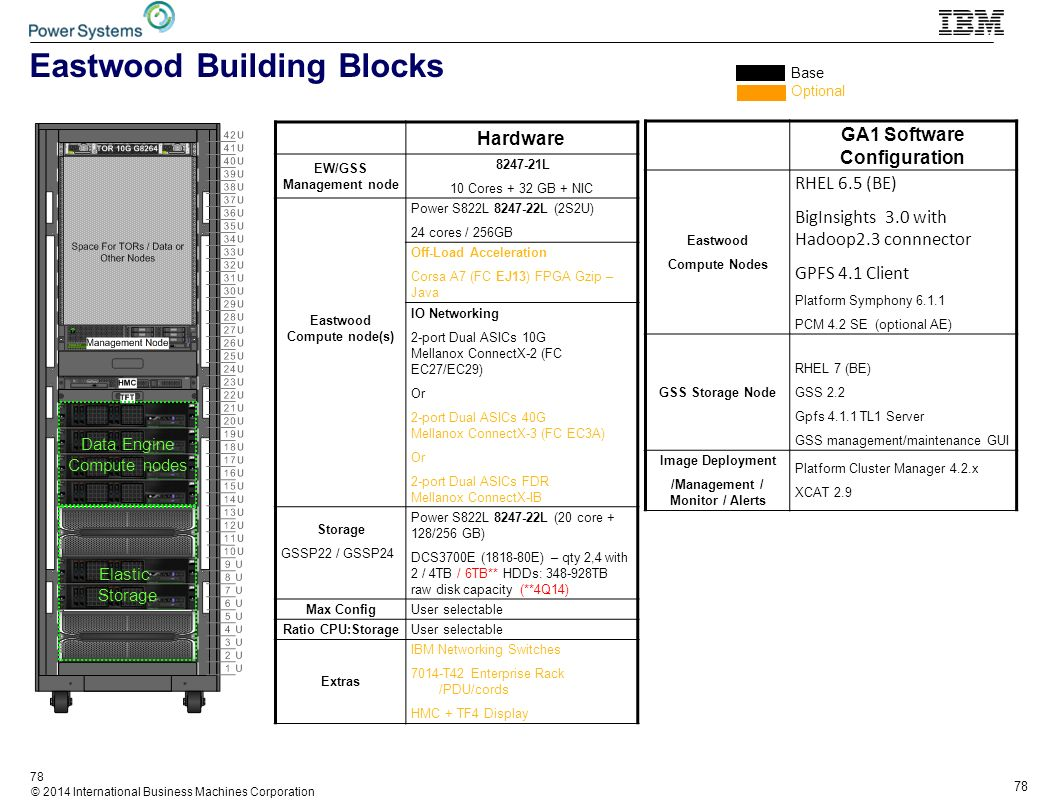ibm-server: (24, 114, 229, 715)
